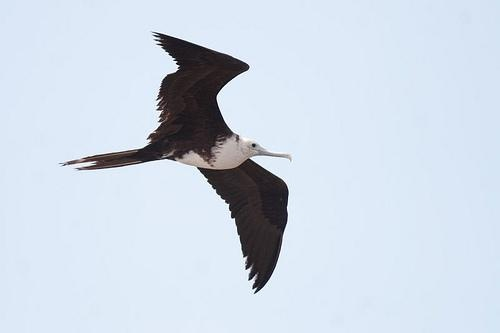bird: (51, 30, 299, 294)
